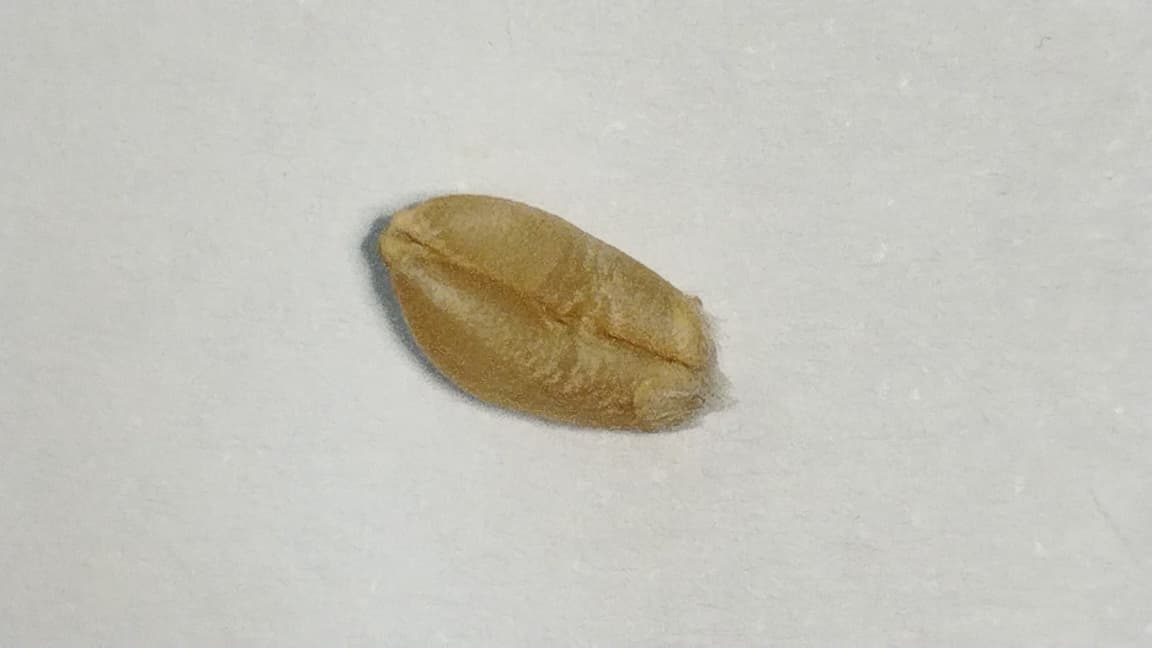healthy: (381, 196, 711, 430)
